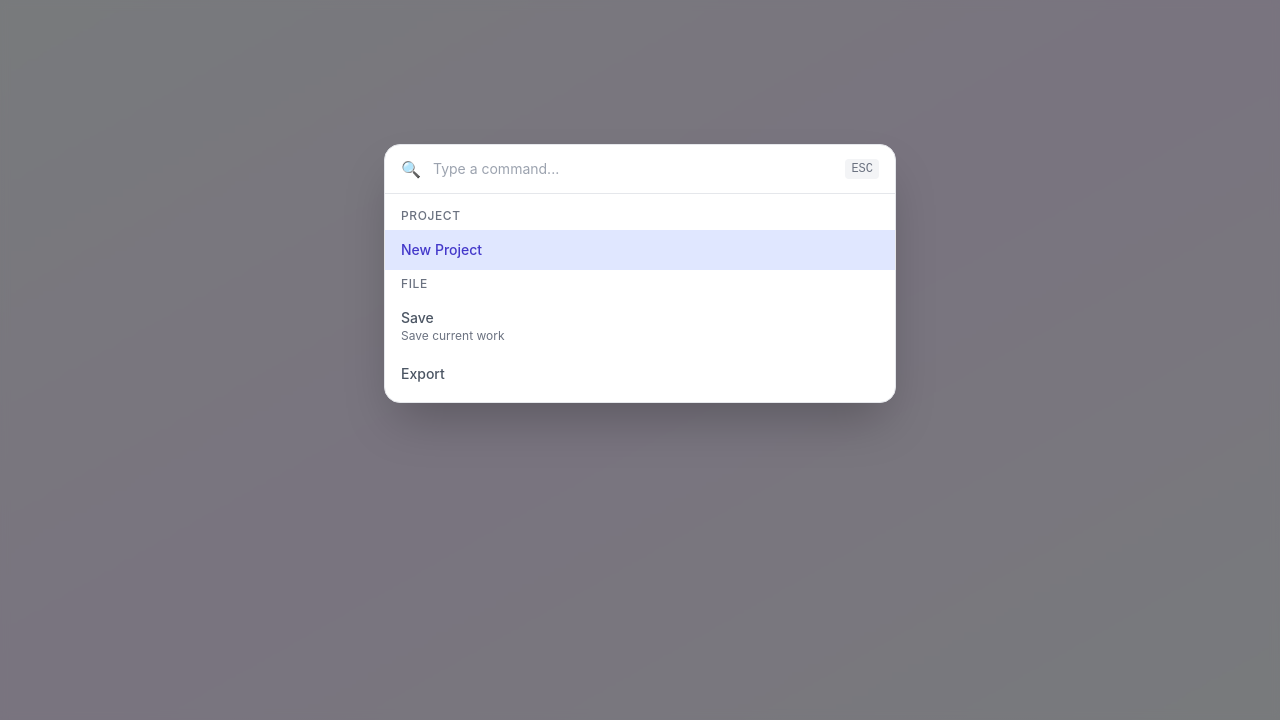
CommandPalette › shows empty state when no match
The image size is (1280, 720).
Type "zzzzz" into the dropdown with placeholder "Type a command..." at (633, 169), box [433,159,833,179]
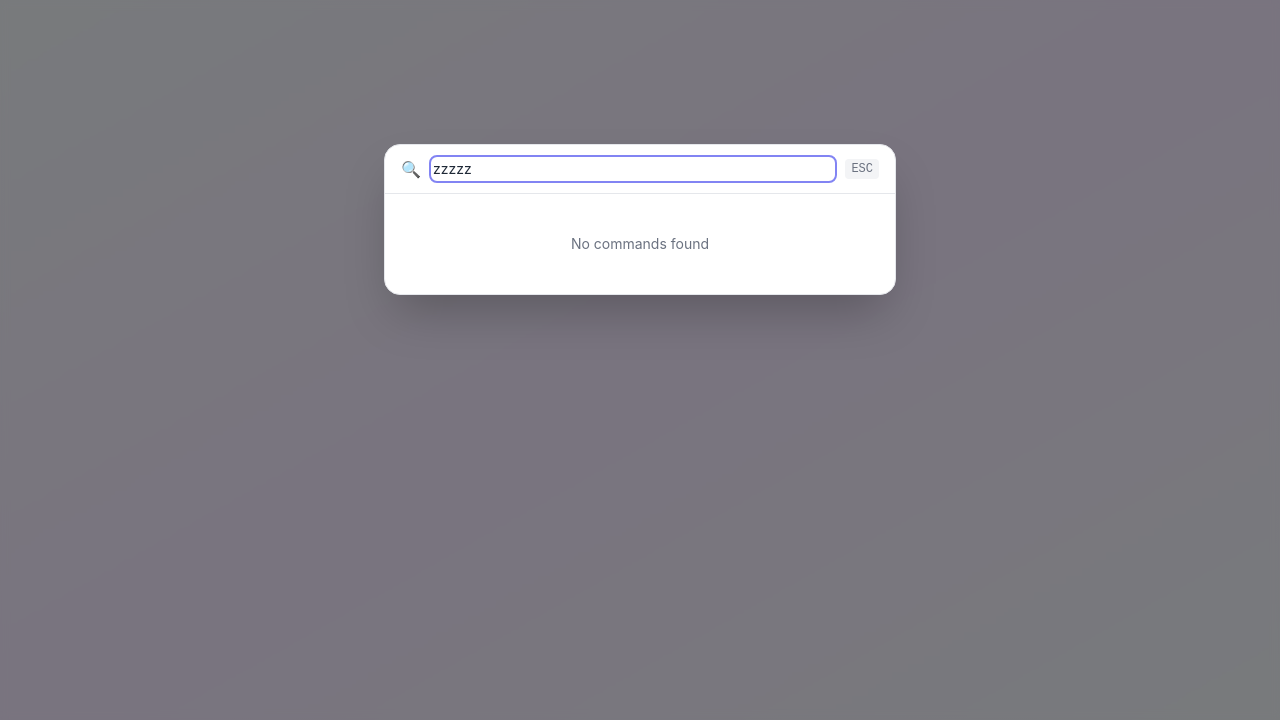
Expected: the text "No commands found" is shown, [571,235,709,252]
